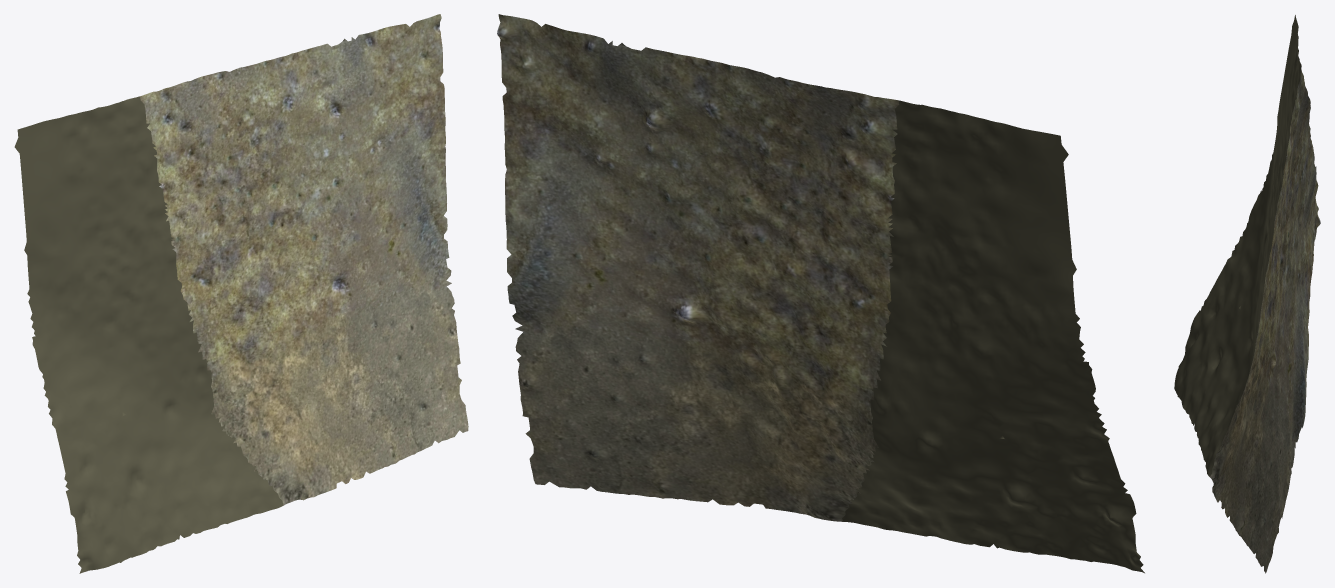
File: tile_35.obj
3 views of the same model, side by side, from view 1: azimuth 30°, elevation 25°; view 2: azimuth 150°, elevation 25°; view 3: azimuth 270°, elevation 25° (orthographic). The views are drawn at different scales.
Size of the model in its own units: 1.97 by 1.7 by 0.6161.
Materials: 1 (1 with a texture image).
